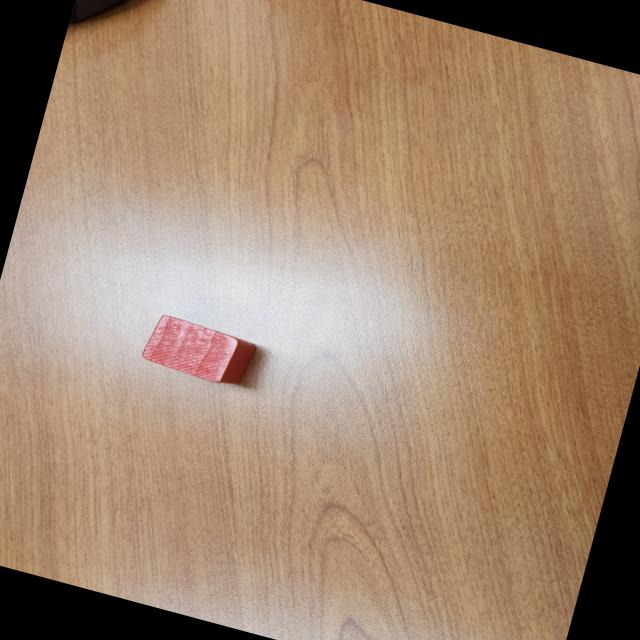red: (138, 311, 258, 391)
